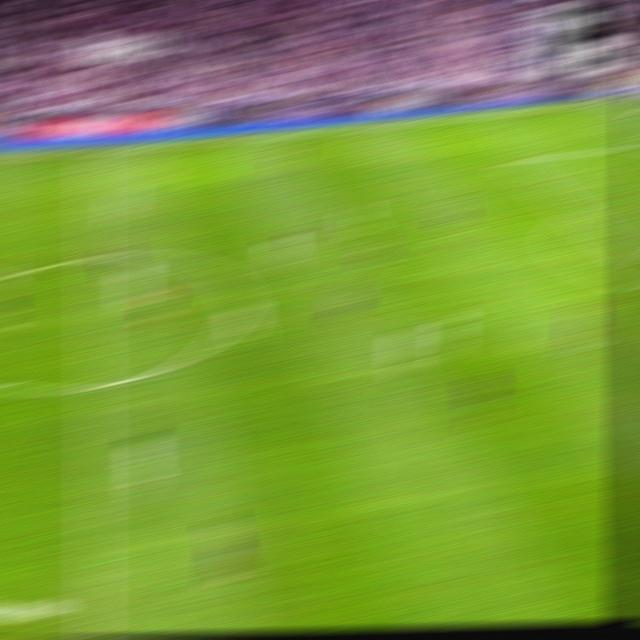bigarea_top_inner: (501, 154, 524, 167)
corner: (604, 97, 628, 104)
halfcircle_bottom: (79, 371, 110, 400)
halfcircle_top: (79, 244, 109, 269)
midline_top_intersection: (81, 147, 105, 159)
top_arc_area_intersection: (561, 204, 587, 218)
